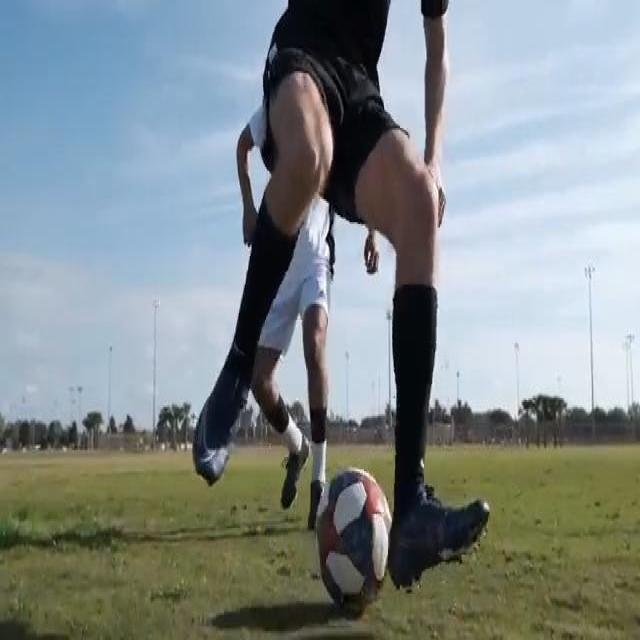Soccer Ball: (314, 463, 394, 618)
